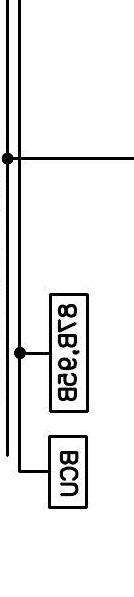BCU: (47, 434, 89, 510)
